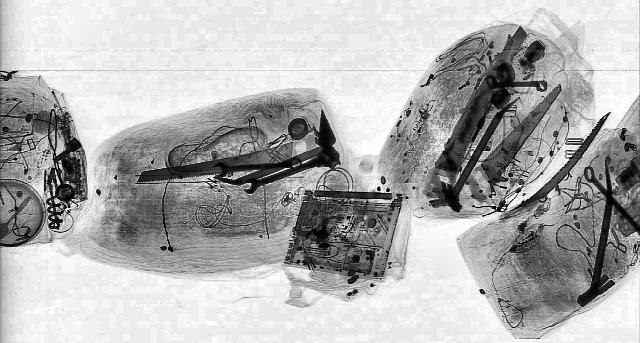Wrench: (210, 156, 304, 177), (482, 72, 550, 92)
